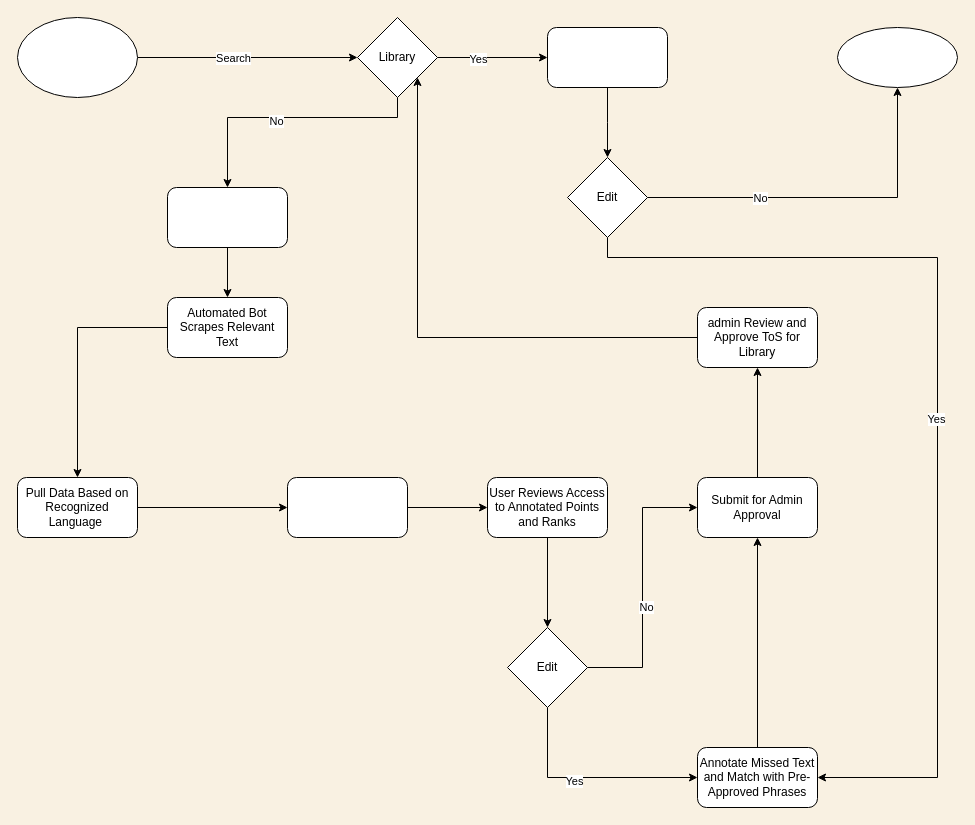
The diagram is 975 pixels wide and 825 high, and some of its shapes have lost their labels. The shapes that lost their labels are listed below. From the top down, each one's centre as x and y in pixels, then its label:
the point at 77,57: TOS/Agreement
the point at 607,57: Review shortened TOS and Rankings
the point at 897,57: Informed User
the point at 227,217: Provide Links or Text to TOS and Privacy Policy
the point at 347,507: Automated Rankings
